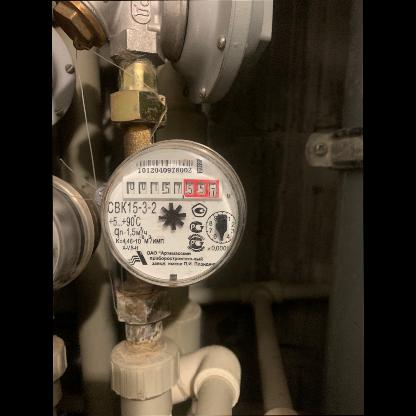digital_screen: (120, 173, 182, 199)
